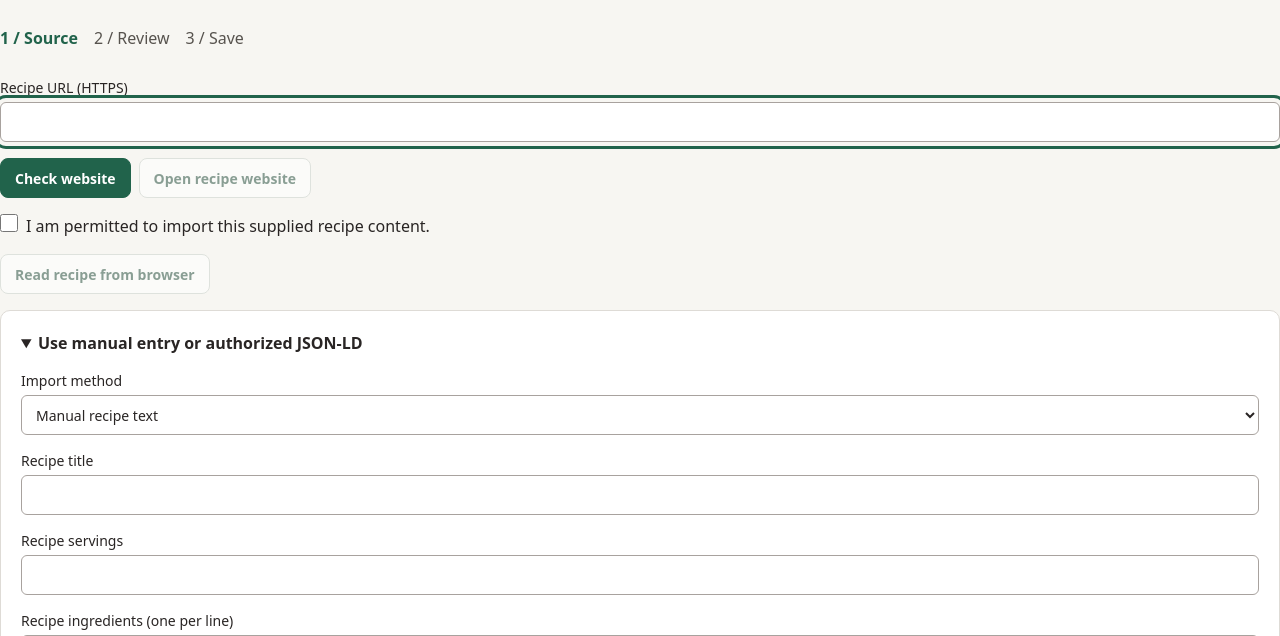
reads an authorized browser recipe into review without saving, and retains manual input on access failure
Type "https://cooking.nytimes.com/recipes/1767-beef-stew-with-prunes" into the field labelled "Recipe URL (HTTPS)" at (640, 122), box top-left (0, 102), bottom-right (1279, 142)
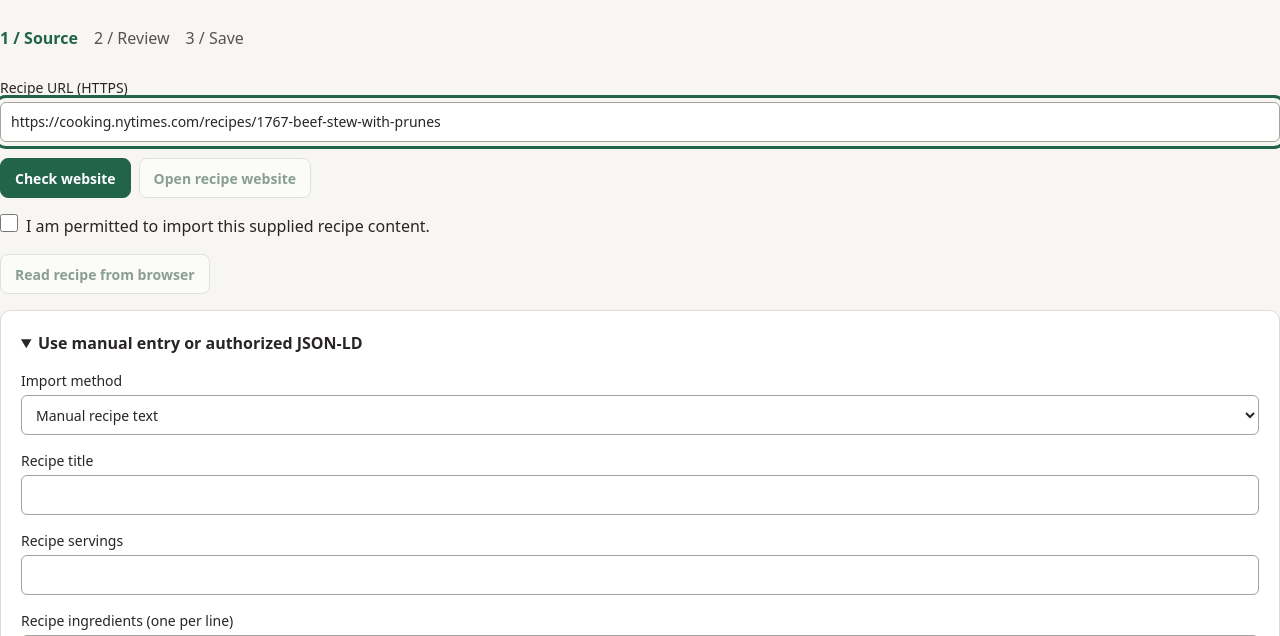
Type "Kept manual draft" into the field labelled "Recipe title" at (640, 495), box top-left (21, 475), bottom-right (1259, 515)
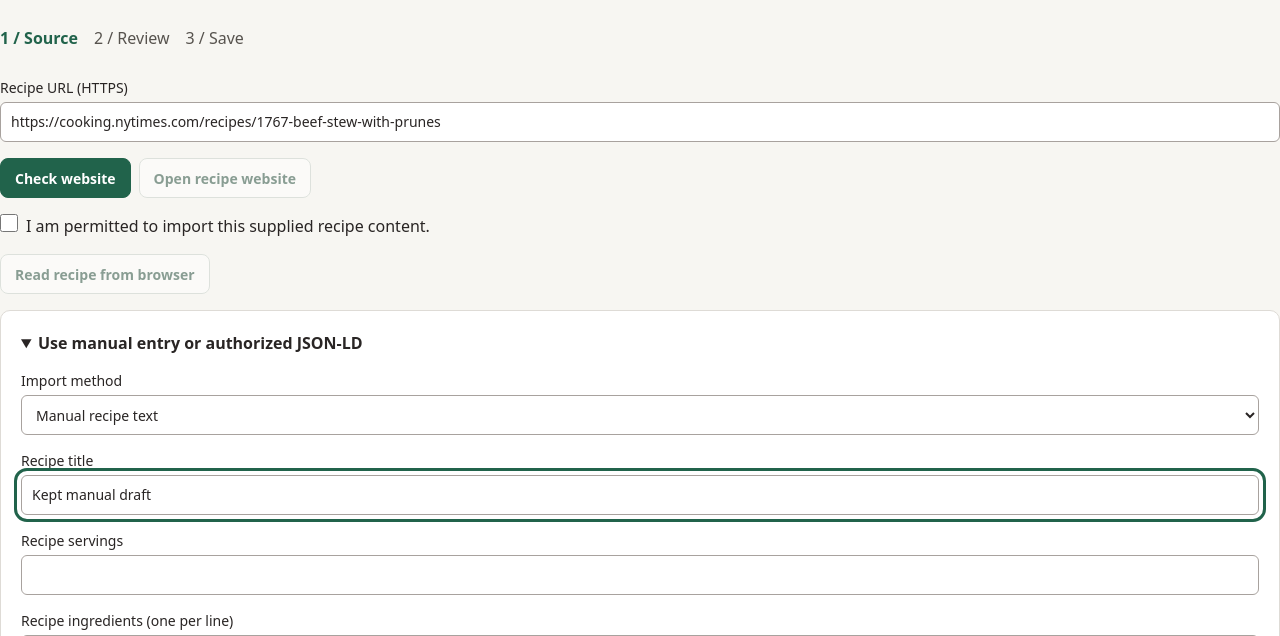
Expected: the button "Read recipe from browser" is disabled, top-left (0, 254), bottom-right (210, 294)
Click the button "Check website" at (65, 178), box top-left (0, 158), bottom-right (131, 198)
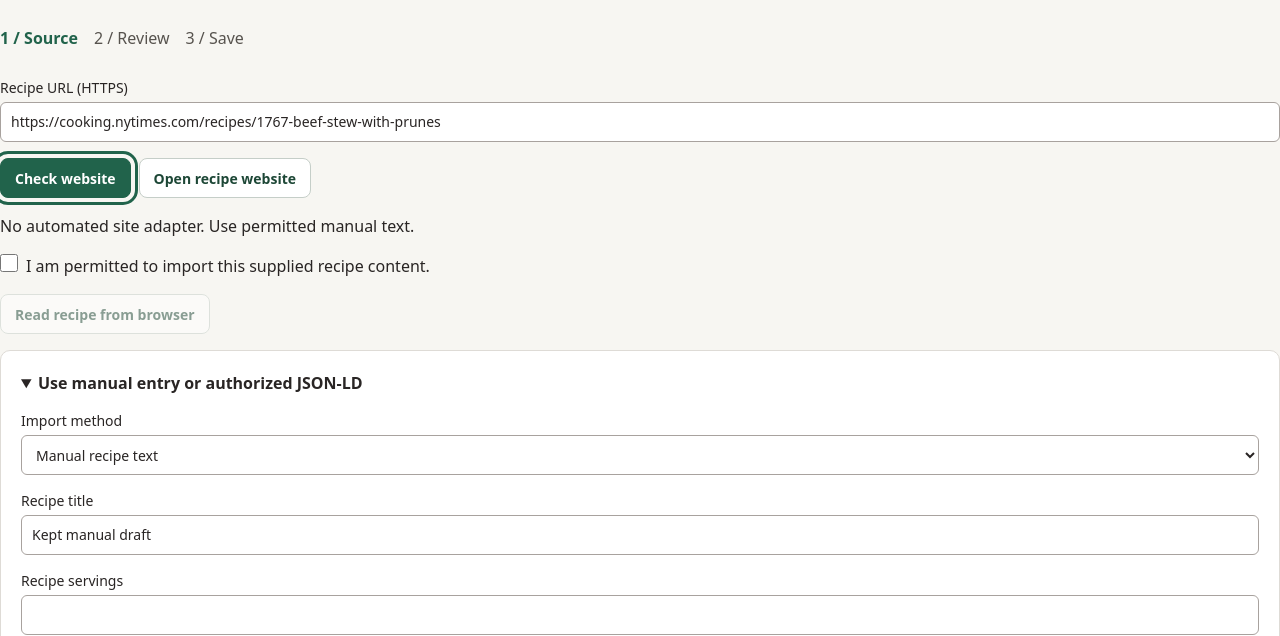
Click the checkbox labelled "I am permitted to import this supplied recipe content." at (9, 263), box top-left (0, 254), bottom-right (18, 272)
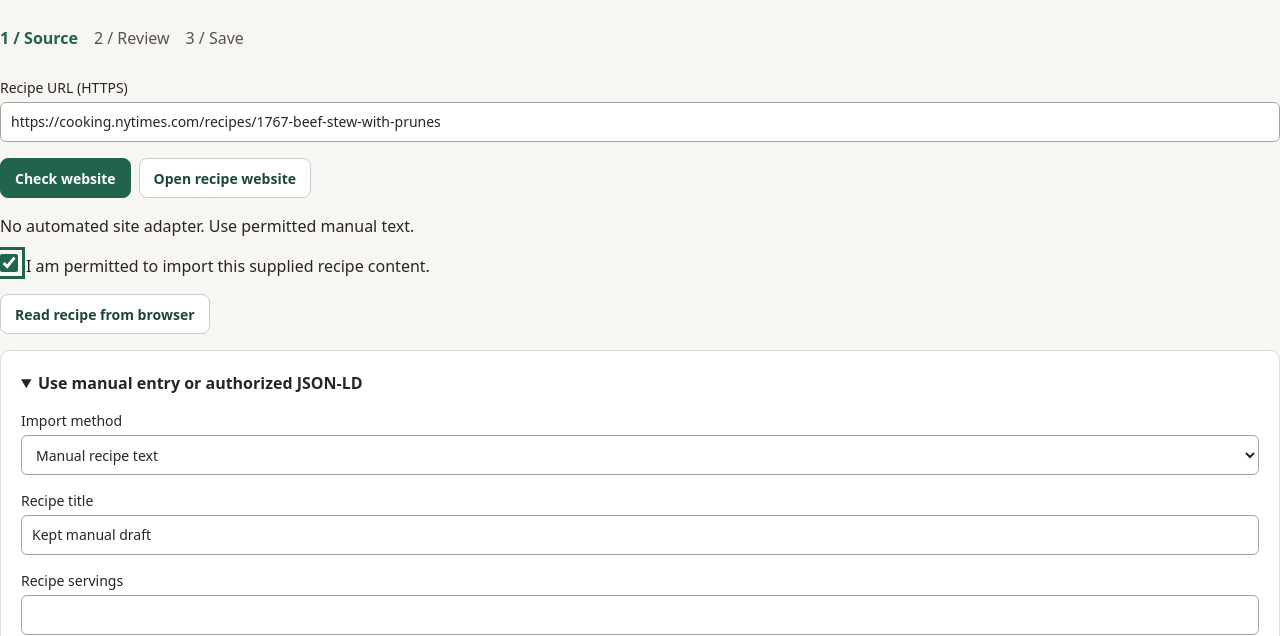
Click the button "Read recipe from browser" at (105, 314), box top-left (0, 294), bottom-right (210, 334)
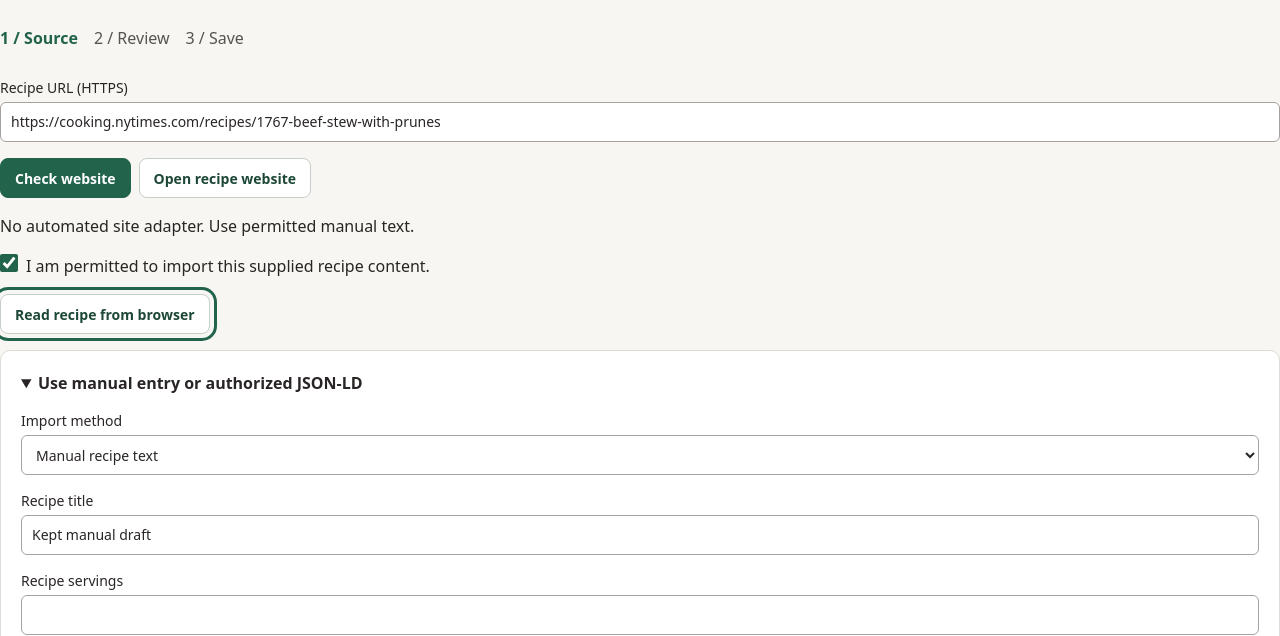
Click the button "Read recipe from browser" at (105, 314), box top-left (0, 294), bottom-right (210, 334)
(page scrolled)
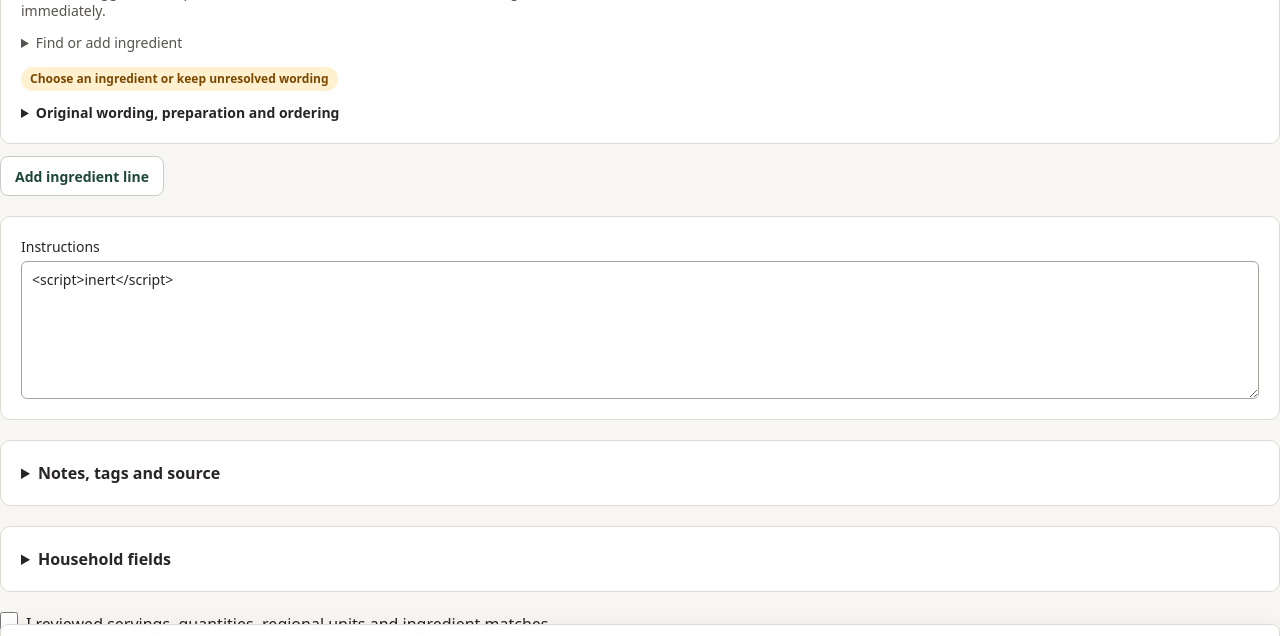
Result: the text box labelled "Instructions" holds "<script>inert</script>" at top-left (21, 261), bottom-right (1259, 399)
